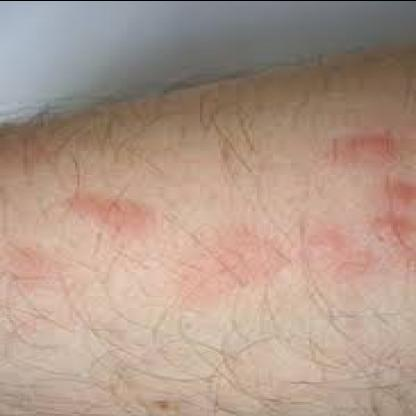Bed Bug: (174, 212, 286, 302), (62, 190, 154, 240), (3, 245, 74, 303), (309, 222, 368, 290), (373, 171, 414, 263), (325, 127, 405, 168), (18, 133, 56, 171)
